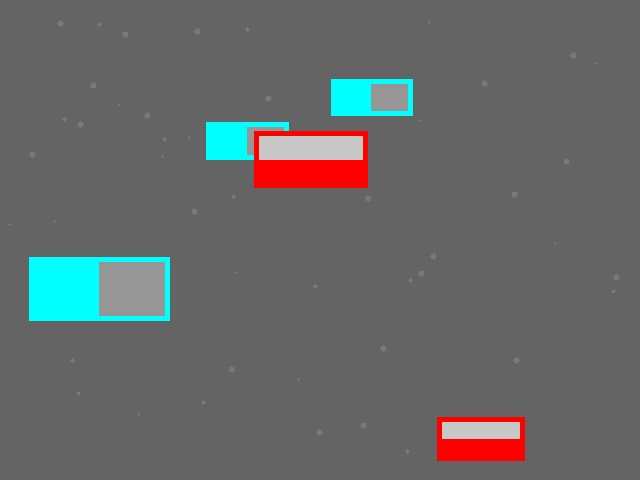car: (254, 131, 367, 187), (437, 417, 524, 460)
truck: (29, 257, 169, 320), (206, 122, 288, 159), (331, 79, 412, 115)
